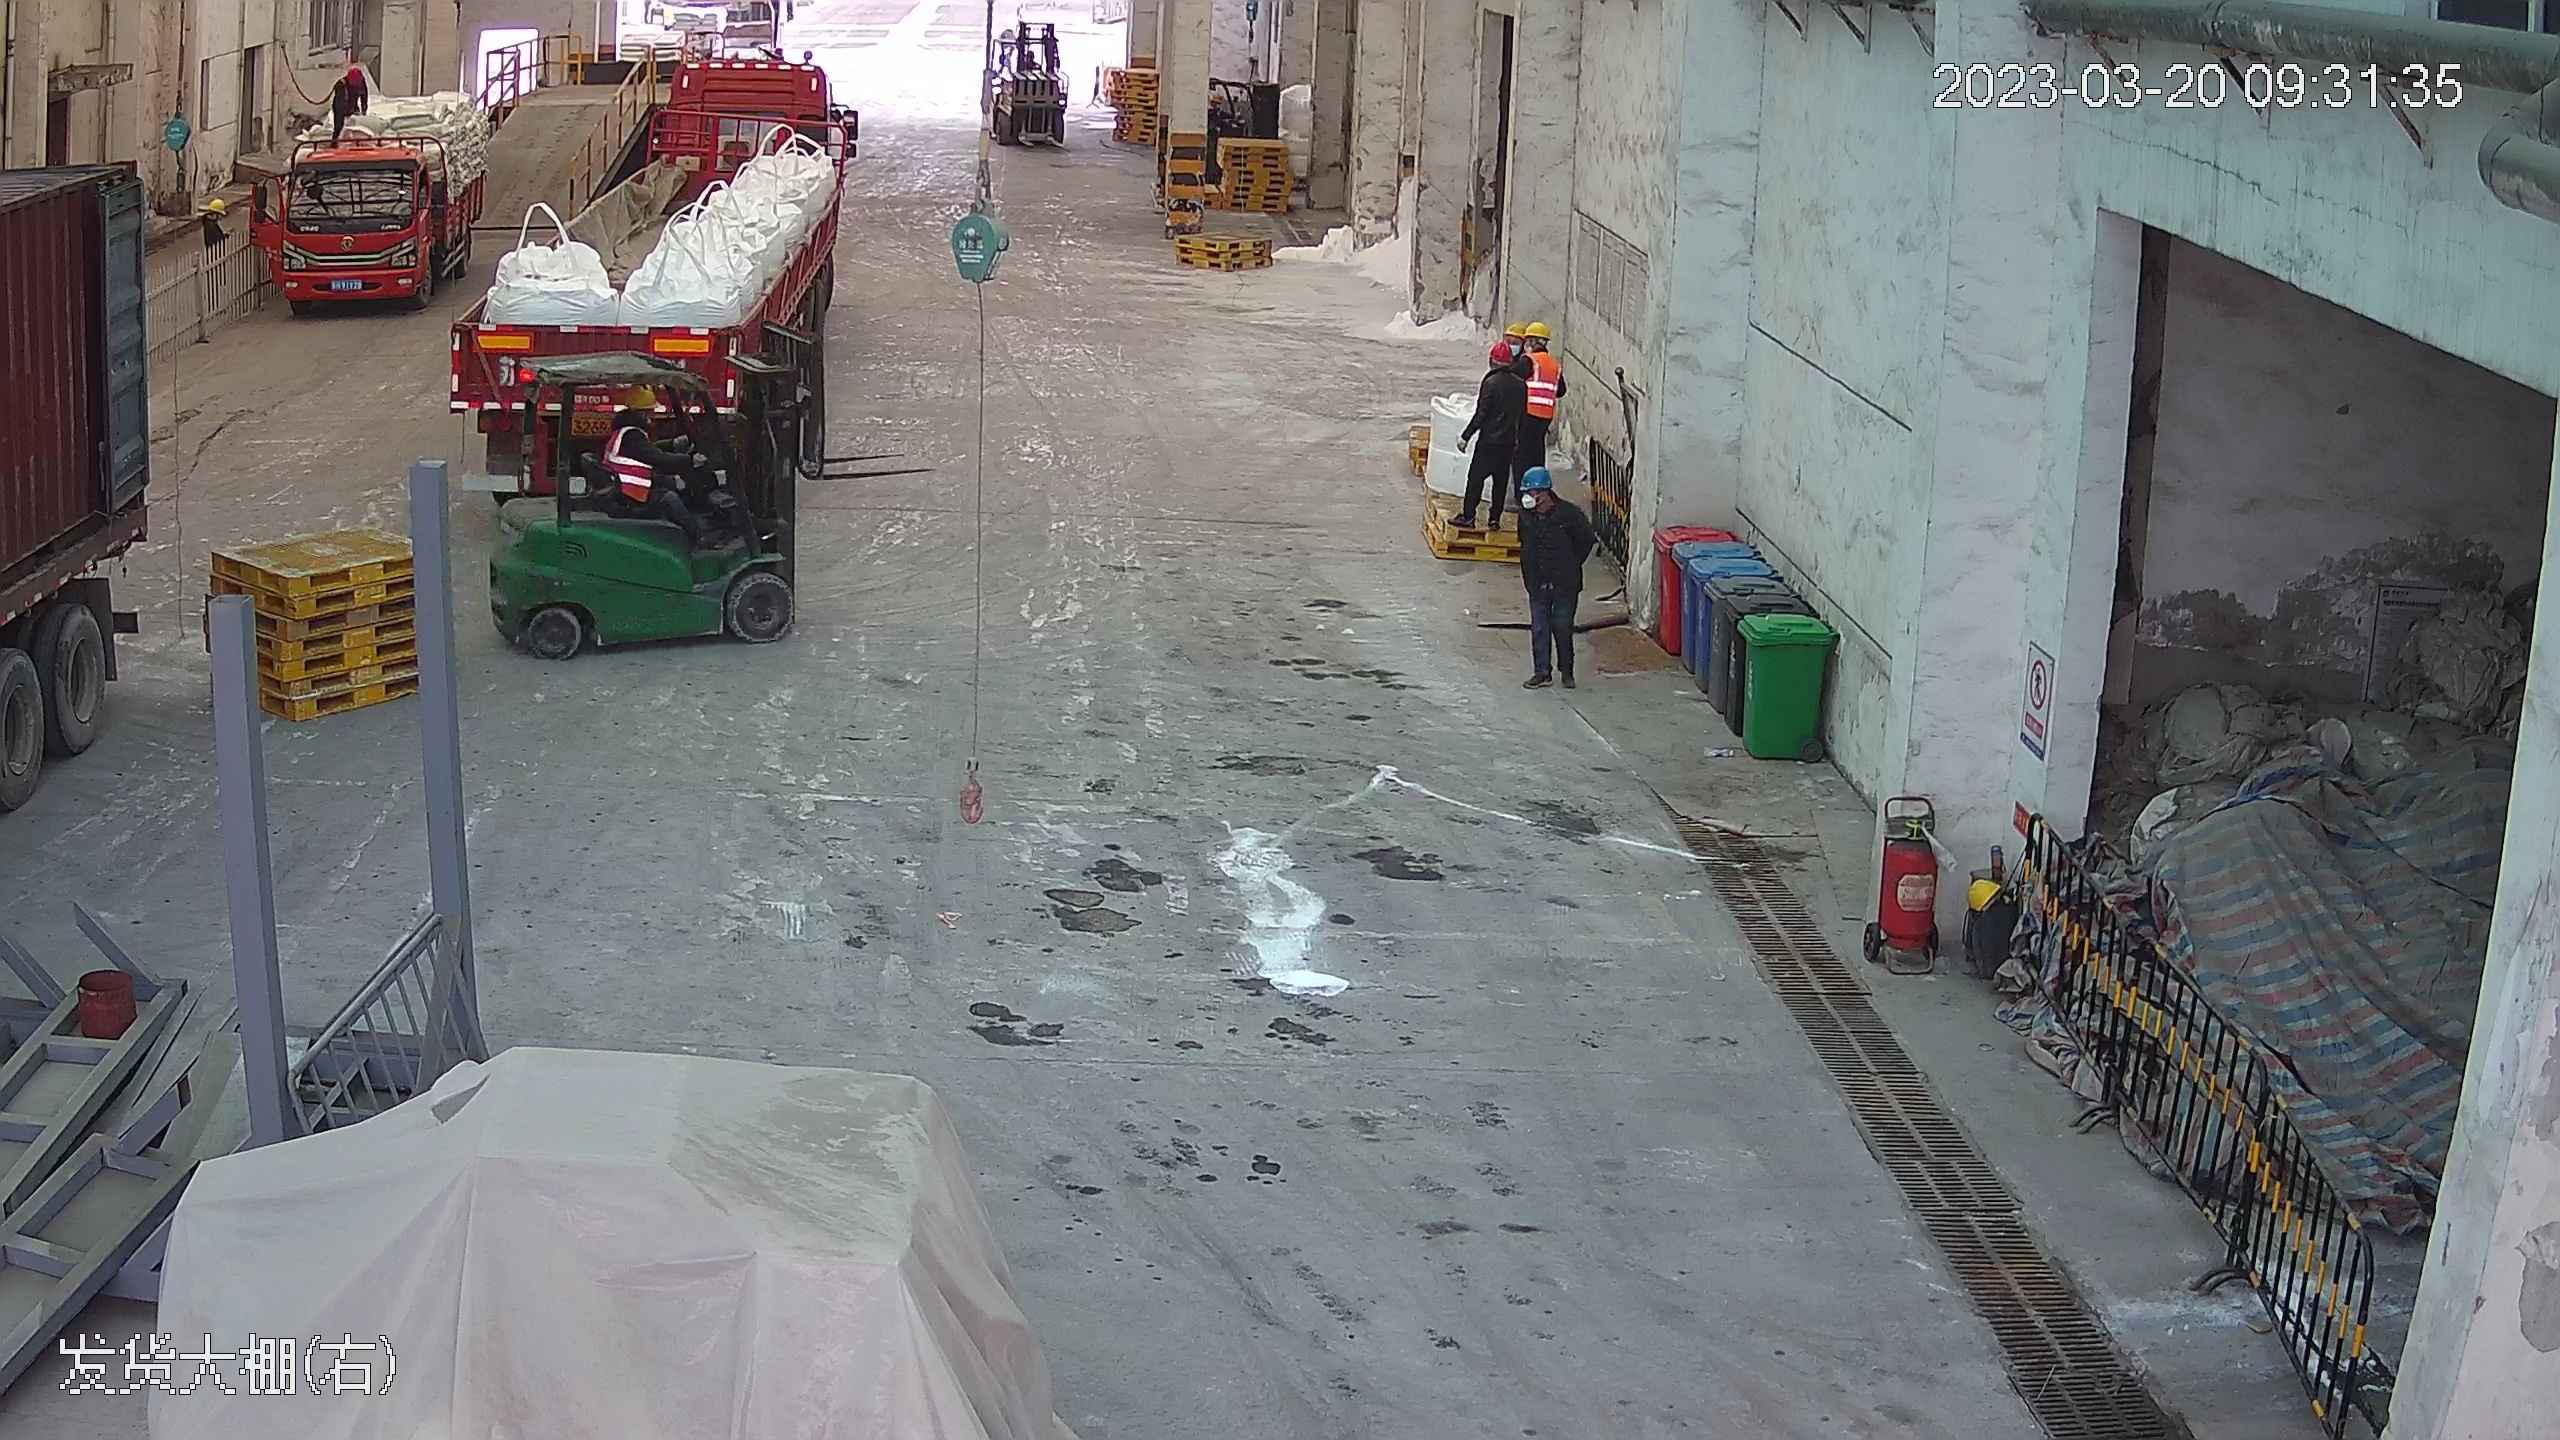head: (1520, 462, 1590, 528), (1511, 323, 1563, 390), (1477, 338, 1527, 406), (610, 387, 659, 447), (198, 194, 232, 239), (332, 61, 368, 100)
helmet: (1526, 457, 1557, 490), (1517, 319, 1552, 344), (622, 384, 655, 409), (1486, 341, 1512, 365), (346, 64, 365, 89), (204, 192, 224, 210)
people: (1517, 459, 1601, 692), (608, 387, 713, 541), (1448, 338, 1527, 529), (317, 59, 370, 143)
truck: (441, 33, 854, 530), (1, 41, 182, 940), (239, 53, 484, 330)
